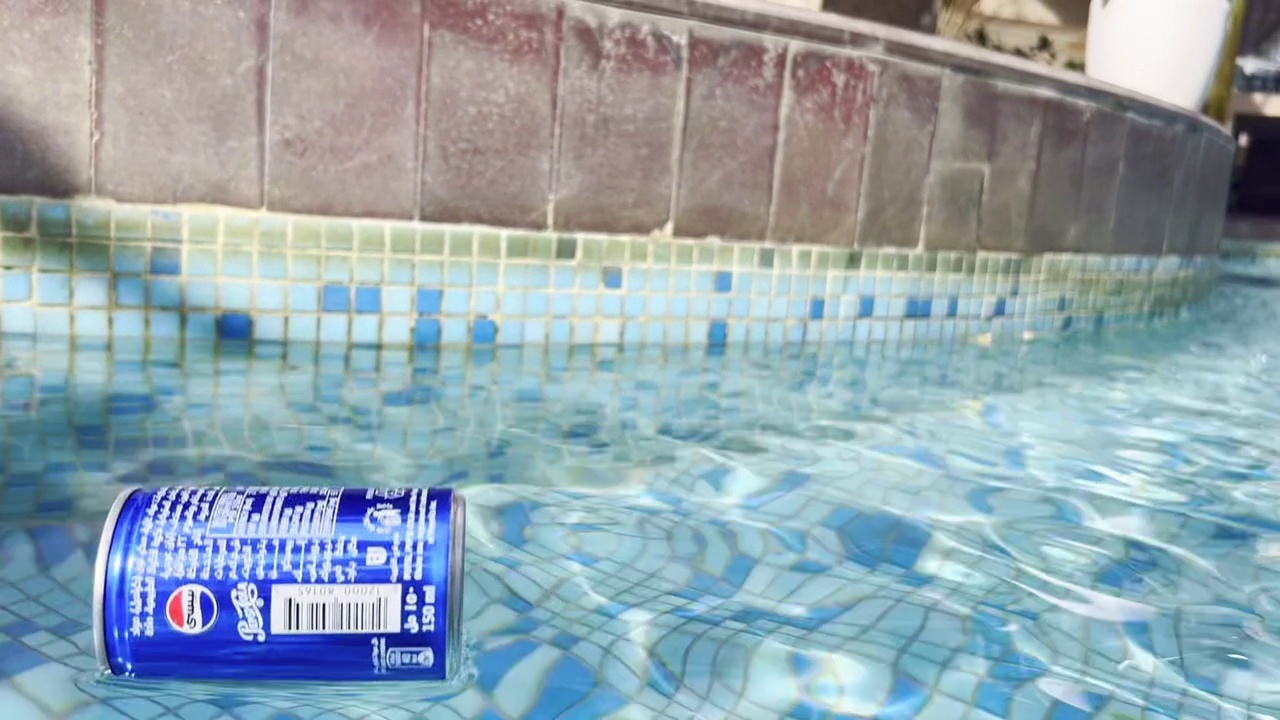debris: (82, 468, 472, 697)
